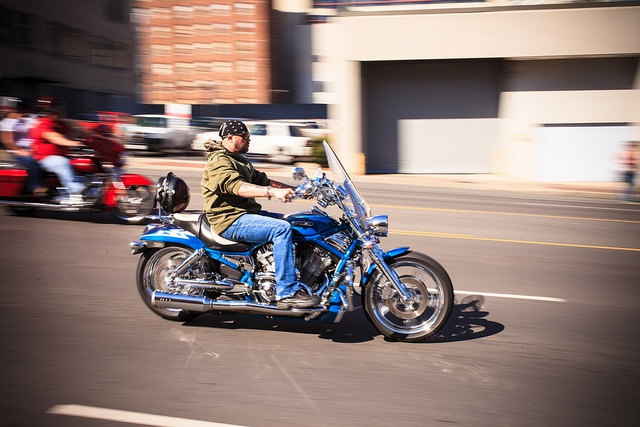non-vehicle: (132, 135, 453, 346), (0, 127, 155, 223)
